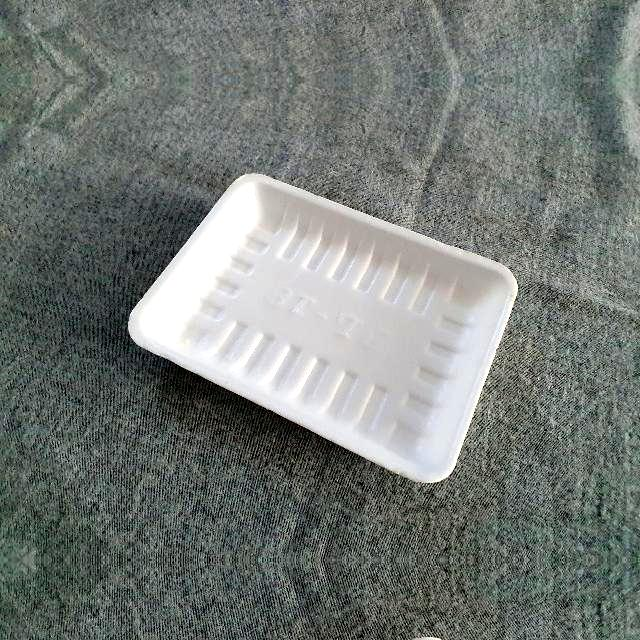Styrofoam: (127, 172, 518, 484), (128, 173, 518, 483)
